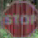Stop: (2, 2, 37, 31)
